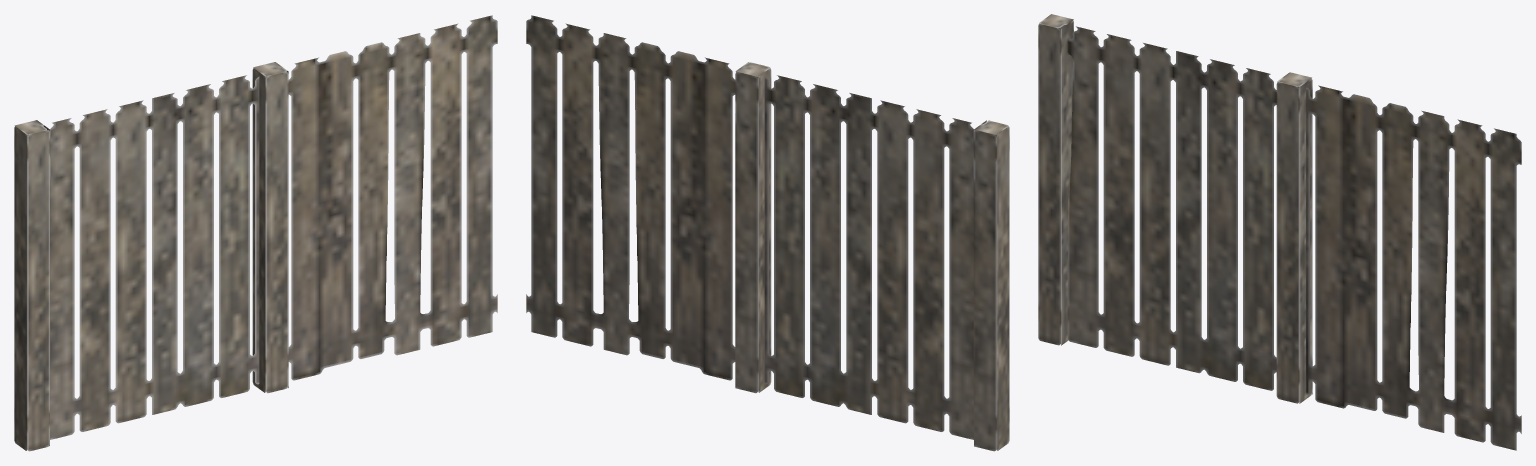
Rendered from FenceWoodPlanks01.obj.
3 views of the same model, side by side, from view 1: azimuth 30°, elevation 25°; view 2: azimuth 150°, elevation 25°; view 3: azimuth 330°, elevation 25° (orthographic).
Parts seen in each view (by area): view 1: FenceWoodPlanks01, FenceWoodPlanks01Post; view 2: FenceWoodPlanks01, FenceWoodPlanks01Post; view 3: FenceWoodPlanks01, FenceWoodPlanks01Post.
Part boxes in pixels (x1,y1,x2,y2): FenceWoodPlanks01: [50, 15, 497, 439]; FenceWoodPlanks01Post: [14, 120, 49, 451]; FenceWoodPlanks01: [526, 15, 974, 439]; FenceWoodPlanks01Post: [974, 120, 1009, 451]; FenceWoodPlanks01: [1067, 26, 1521, 450]; FenceWoodPlanks01Post: [1038, 14, 1073, 345].
Bounding box in the file's own units: 3.15 × 2 × 0.15.
